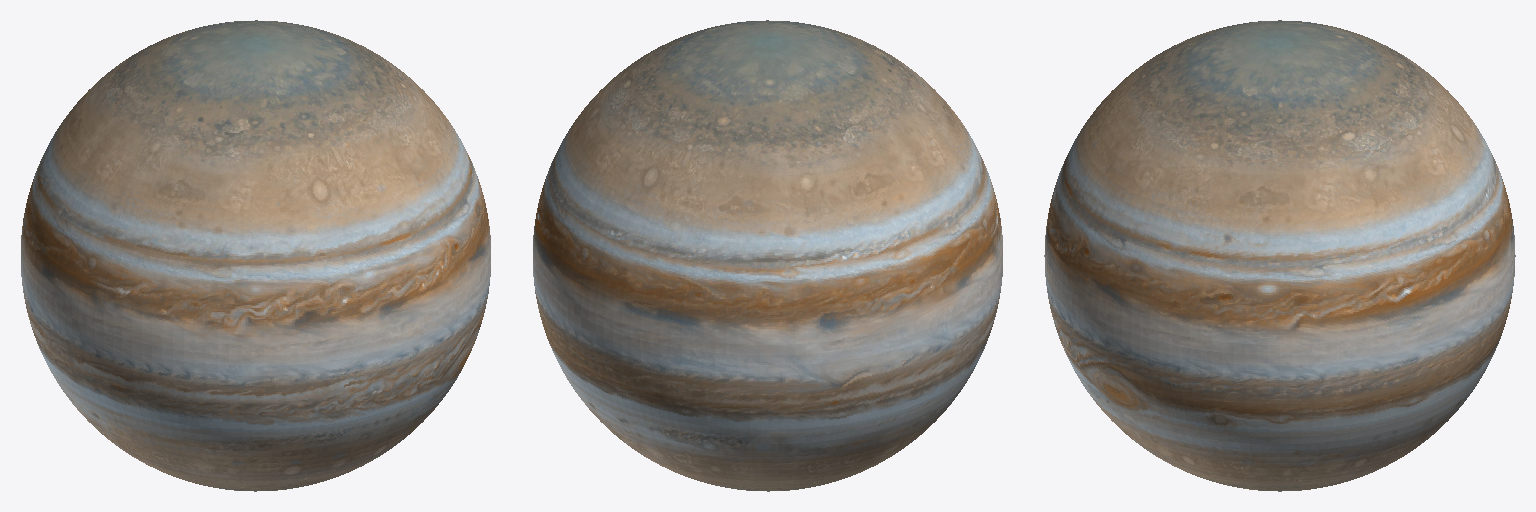
The picture shows the model from 3 angles: view 1: azimuth 30°, elevation 25°; view 2: azimuth 150°, elevation 25°; view 3: azimuth 270°, elevation 25°; orthographic projection.
Parts seen in each view (by area): view 1: Sphere; view 2: Sphere; view 3: Sphere.
Part boxes in pixels (x1,y1,x2,y2): Sphere: (21,20,490,491); Sphere: (533,20,1002,491); Sphere: (1044,20,1515,491).
Bounding box in the file's own units: 22.15 × 22.15 × 22.15.
1 materials, 1 textured.